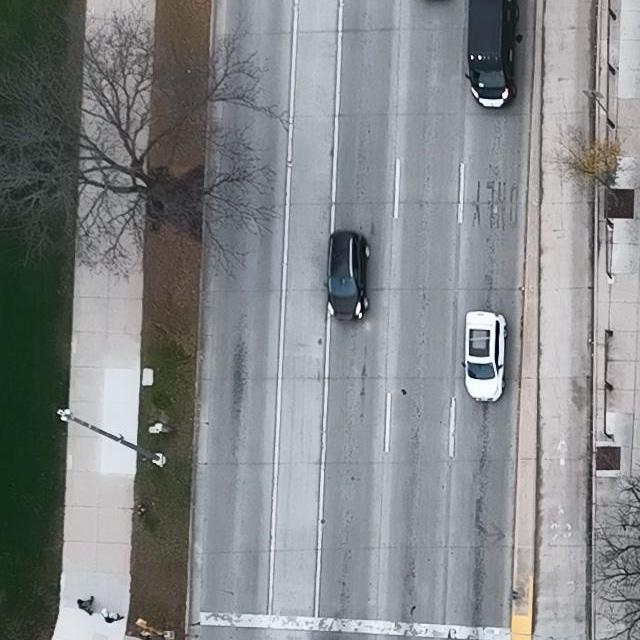car: (464, 0, 520, 110), (323, 230, 371, 322), (461, 310, 508, 403)
